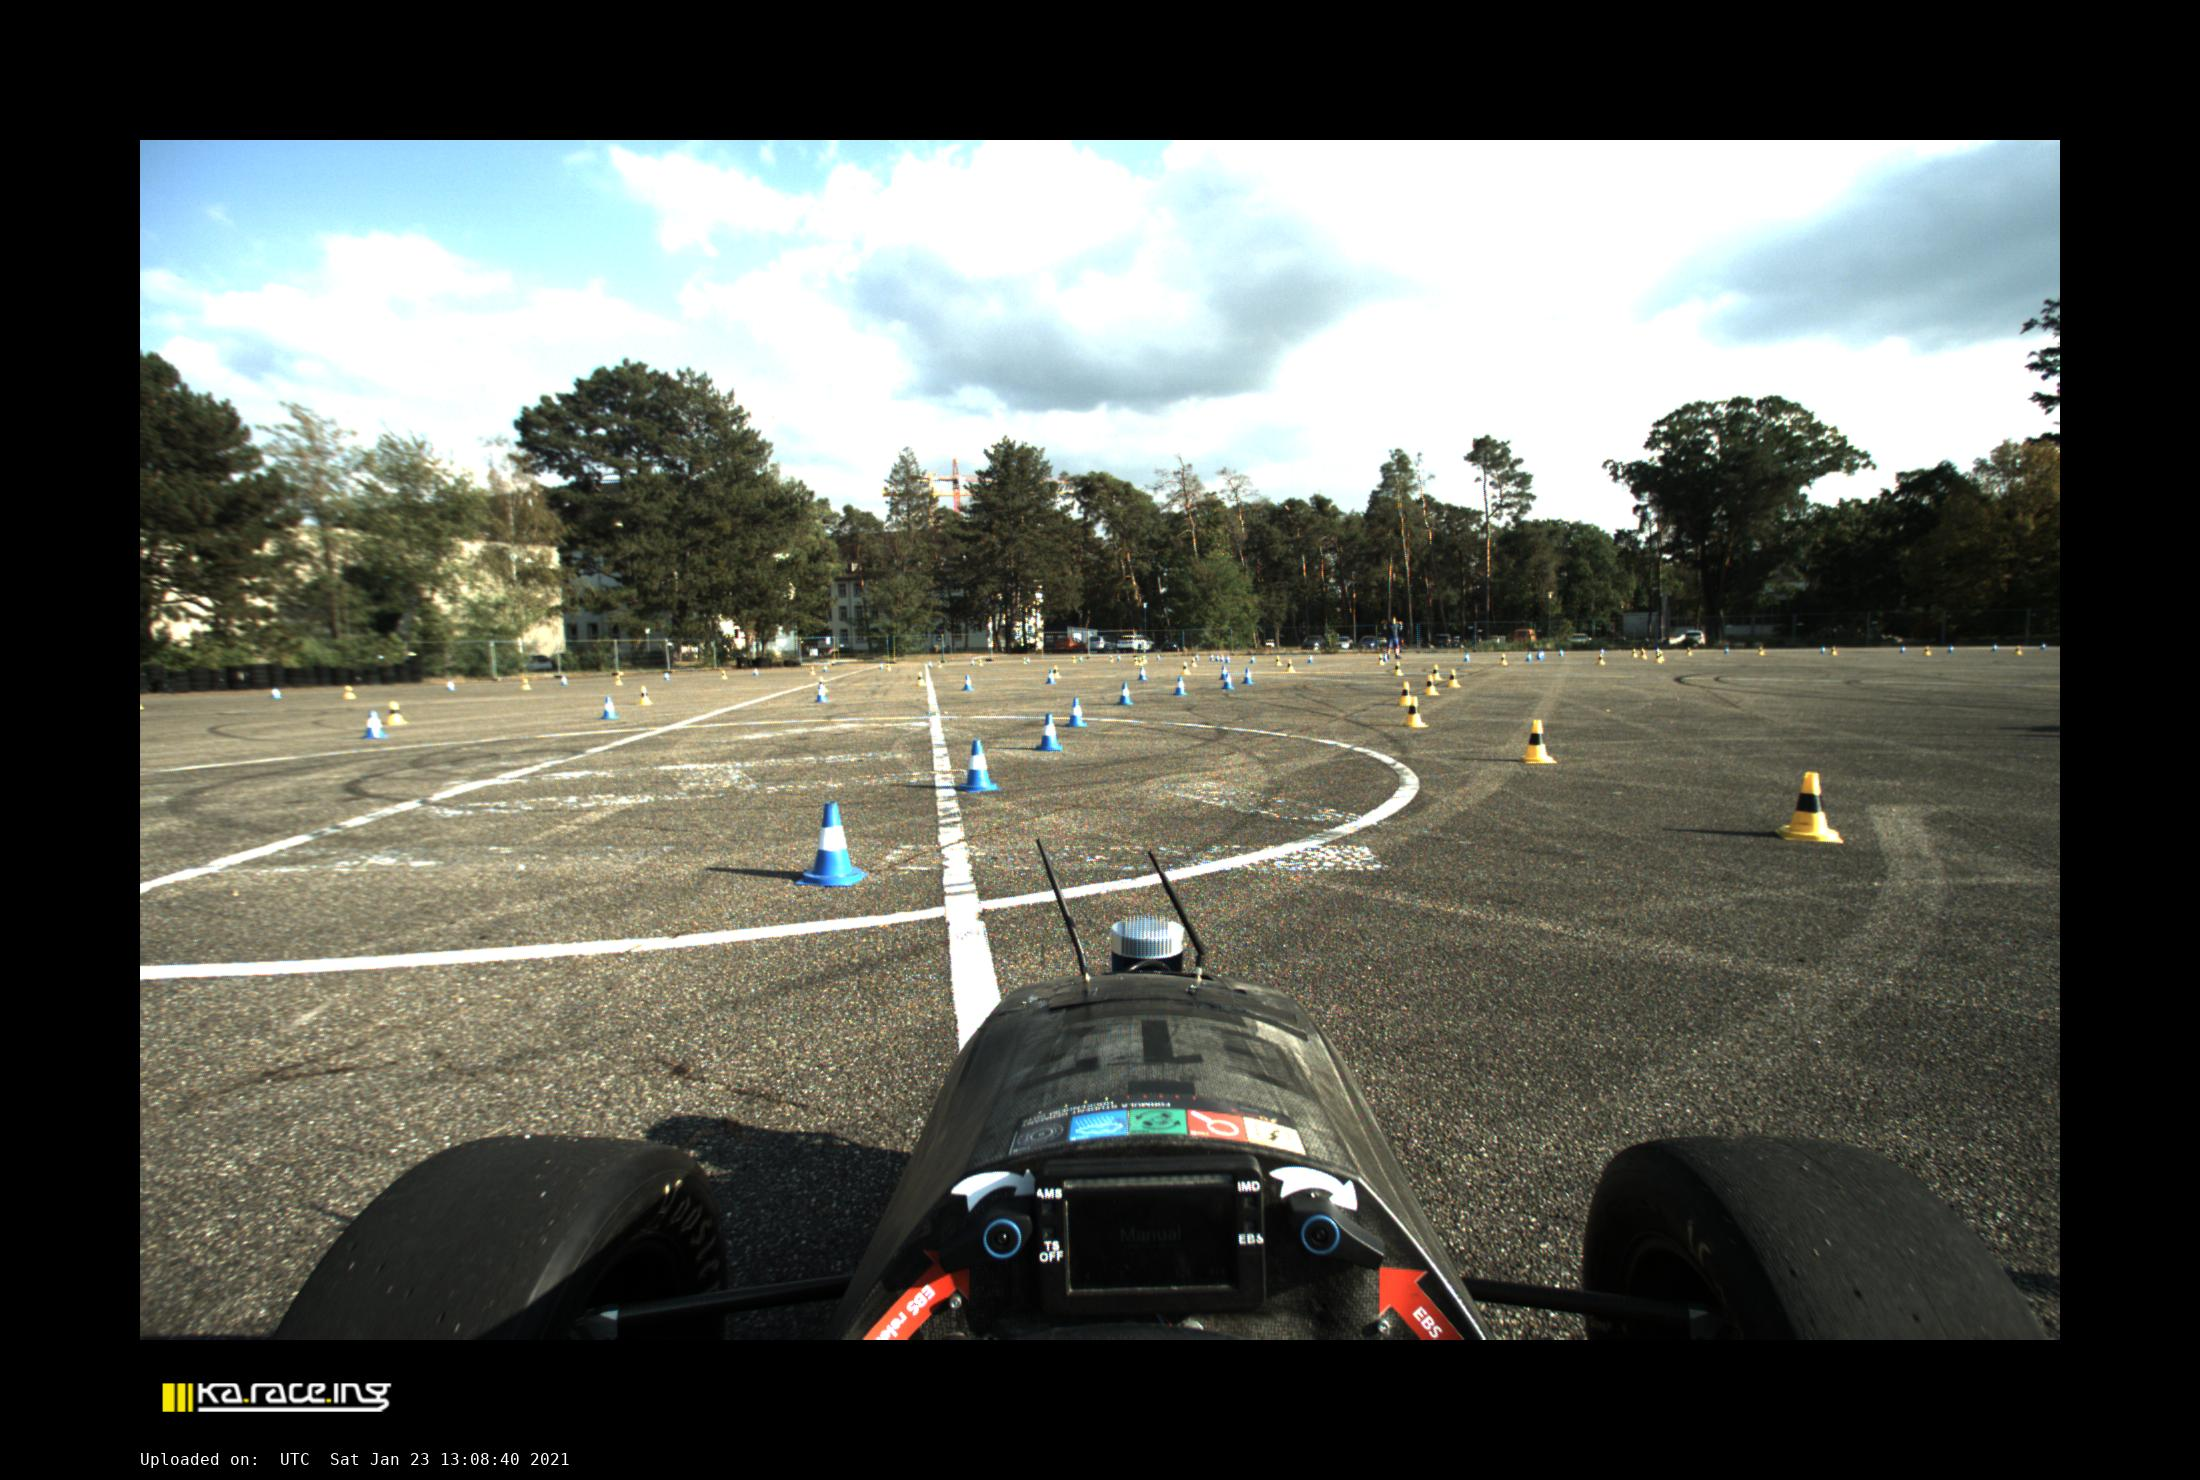blue_cone: (794, 802, 868, 887), (956, 739, 1001, 793), (1034, 713, 1063, 752), (360, 710, 388, 739), (1064, 697, 1088, 727), (599, 696, 619, 720), (1116, 682, 1134, 705), (1173, 676, 1188, 696), (814, 685, 829, 702), (961, 674, 974, 691), (1241, 667, 1254, 684), (1222, 672, 1234, 690), (267, 686, 283, 699), (1045, 669, 1056, 684), (1137, 667, 1148, 680), (1218, 665, 1228, 679), (444, 680, 455, 691), (1536, 649, 1545, 660), (1525, 652, 1533, 662), (561, 675, 568, 686), (1463, 652, 1470, 662), (663, 672, 670, 681), (1307, 654, 1314, 663), (1249, 654, 1255, 664), (753, 667, 759, 676), (1194, 653, 1200, 661), (1948, 645, 1954, 653), (1558, 649, 1564, 656), (879, 662, 884, 670), (1209, 653, 1214, 661), (1215, 654, 1220, 662), (1220, 654, 1225, 662), (1225, 655, 1230, 663), (1724, 646, 1729, 654), (1821, 646, 1826, 654), (1900, 645, 1905, 653), (969, 660, 975, 666), (927, 660, 932, 667), (1992, 644, 1997, 651), (823, 665, 827, 672), (1079, 655, 1083, 662), (1117, 654, 1121, 661), (2042, 643, 2046, 650), (1026, 657, 1030, 663), (1157, 655, 1161, 661), (1654, 647, 1658, 653)
yellow_cone: (1775, 771, 1844, 843), (1522, 719, 1558, 764), (1402, 696, 1428, 728), (386, 701, 409, 725), (1423, 674, 1440, 696), (636, 685, 653, 705), (1399, 681, 1412, 705), (1446, 669, 1462, 688), (341, 685, 356, 700), (1431, 663, 1443, 680), (815, 677, 828, 690), (1284, 659, 1296, 673), (915, 671, 926, 686), (1180, 661, 1191, 675), (1393, 661, 1403, 676), (520, 678, 531, 690), (1498, 653, 1508, 666), (1596, 653, 1606, 666), (1052, 665, 1061, 678), (615, 672, 623, 686), (1377, 654, 1386, 665), (1656, 651, 1664, 663), (1190, 657, 1198, 668), (1924, 645, 1932, 656), (2015, 645, 2023, 655), (1641, 647, 1647, 659), (721, 670, 728, 680), (809, 665, 815, 676), (1276, 655, 1282, 666), (1632, 647, 1638, 658), (1133, 655, 1139, 665), (1759, 645, 1765, 655), (886, 663, 892, 672), (1831, 646, 1837, 655), (1138, 657, 1143, 667), (1141, 655, 1147, 663), (1687, 647, 1692, 656), (937, 660, 942, 668), (1072, 655, 1077, 663), (1022, 657, 1027, 664), (979, 659, 983, 666), (1109, 655, 1113, 662)
